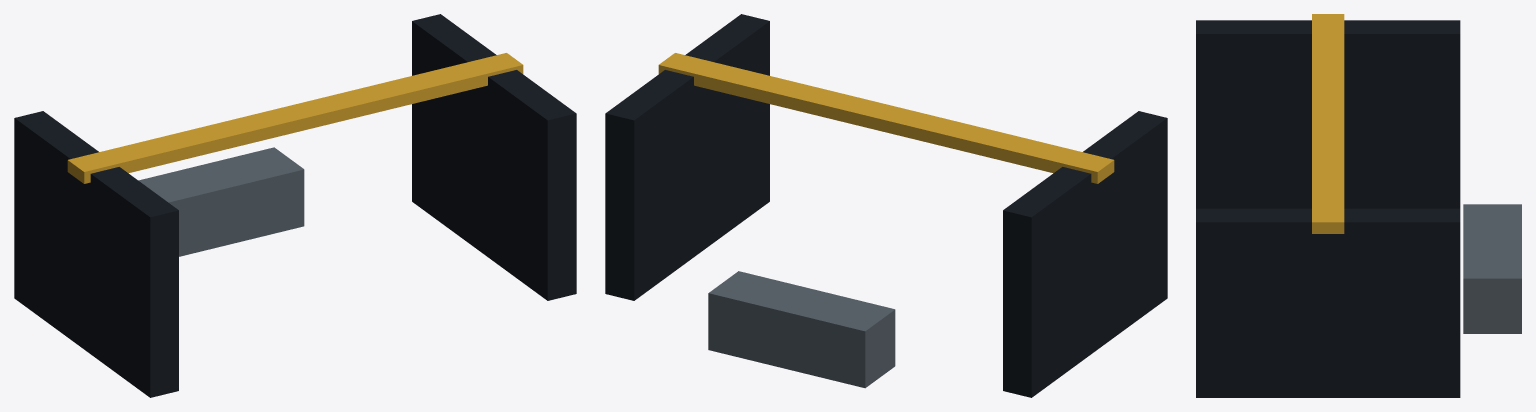
Rendered from module.final_commit_gate.glb.
3 renders of one model, left to right at view 1: azimuth 30°, elevation 25°; view 2: azimuth 150°, elevation 25°; view 3: azimuth 270°, elevation 25°, orthographic. The views are drawn at different scales.
Visible parts, largest first — view 1: gate_cheek_l, gate_cheek_r, commit_header, last_cover; view 2: gate_cheek_l, gate_cheek_r, last_cover, commit_header; view 3: gate_cheek_r, gate_cheek_l, last_cover, commit_header.
Boxes of the visible parts, x1,y1,x2,y2 form: gate_cheek_l: (14,111,178,397); gate_cheek_r: (412,14,576,300); commit_header: (67,53,523,183); last_cover: (138,147,304,256); gate_cheek_l: (1003,111,1167,397); gate_cheek_r: (605,14,769,300); last_cover: (708,271,895,388); commit_header: (658,53,1114,183); gate_cheek_r: (1196,208,1460,397); gate_cheek_l: (1196,20,1460,208); last_cover: (1463,204,1521,333); commit_header: (1312,14,1344,233).
Bounding box in the file's own units: 8.4 × 3.36 × 5.55.
